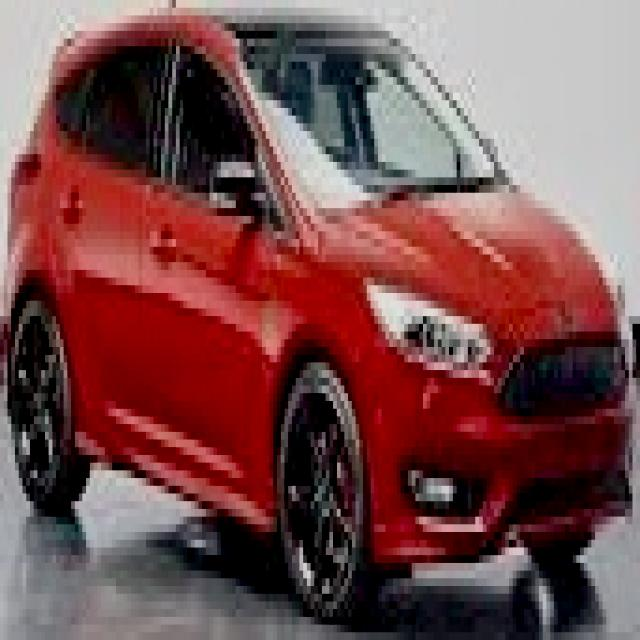red: (3, 9, 635, 604)
